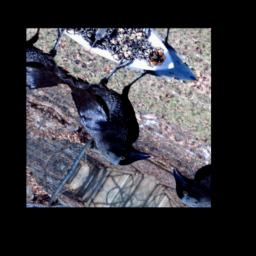Crow: (42, 38, 193, 178)
